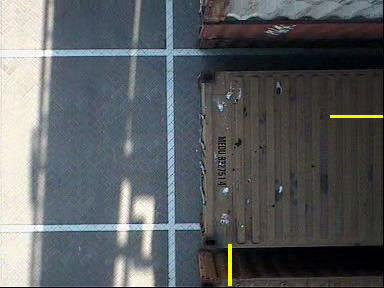groundmarker_2: (101, 106, 156, 143)
